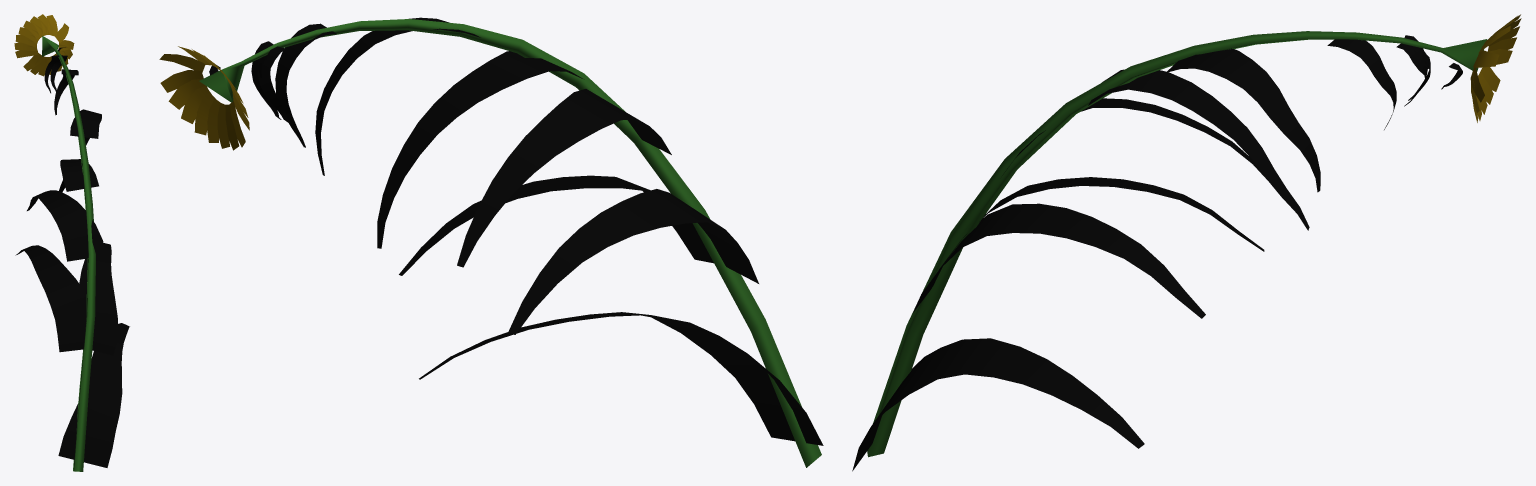
Rendered from Sunflower_test.fbx.
The picture shows the model from 3 angles, left to right: view 1: azimuth 30°, elevation 25°; view 2: azimuth 150°, elevation 25°; view 3: azimuth 270°, elevation 25°; orthographic projection. The views are drawn at different scales.
Parts seen in each view (by area): view 1: sunflower1Main1; view 2: sunflower1Main1; view 3: sunflower1Main1.
Boxes of the visible parts, x1,y1,x2,y2 form: sunflower1Main1: (14, 14, 129, 471); sunflower1Main1: (159, 17, 823, 467); sunflower1Main1: (852, 14, 1521, 471).
Size of the model in its own units: 41.51 by 68.39 by 74.1.
